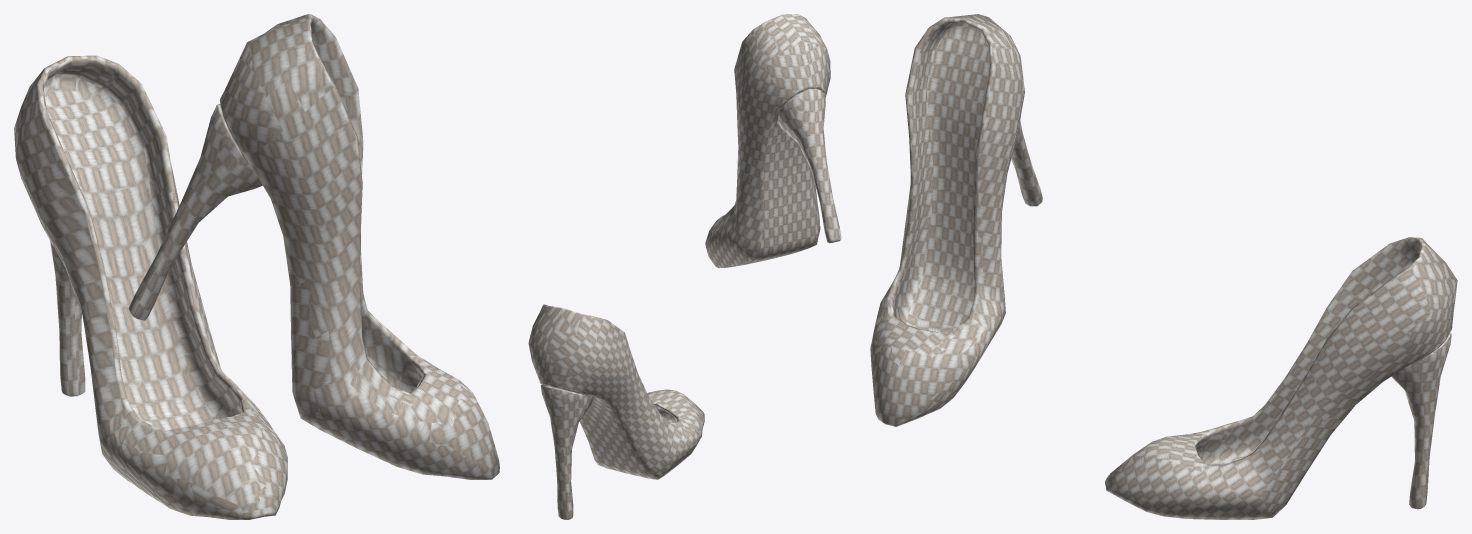
The model's file is gaogenxie02.fbx.
The picture shows the model from 3 angles, left to right: view 1: azimuth 30°, elevation 25°; view 2: azimuth 150°, elevation 25°; view 3: azimuth 270°, elevation 25°; orthographic projection. The views are drawn at different scales.
Visible parts, largest first — view 1: gaogenxie02; view 2: gaogenxie02; view 3: gaogenxie02.
Boxes of the visible parts, box(x1,y1,x2,y2) form: gaogenxie02: box(14, 14, 499, 519); gaogenxie02: box(528, 14, 841, 519); gaogenxie02: box(870, 14, 1457, 519).
Bounding box in the file's own units: 18.95 × 38.69 × 43.99.
